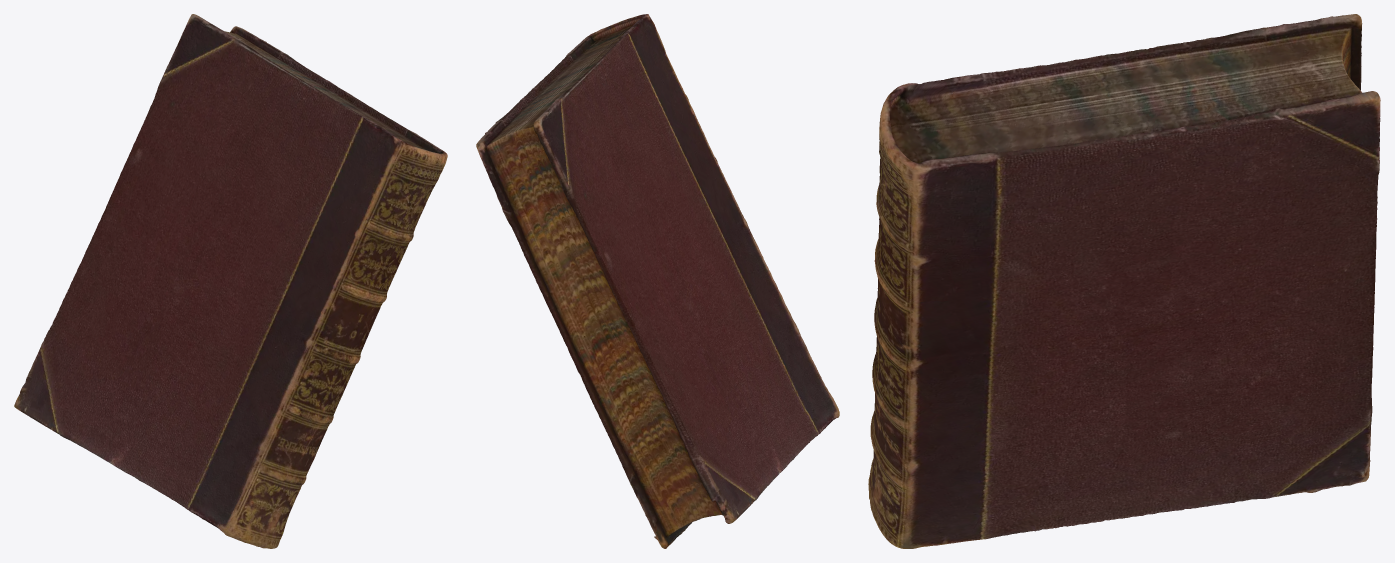
File: the_works_of_william_shakespeare-transformed.glb
3 views of the same model, side by side, from view 1: azimuth 30°, elevation 25°; view 2: azimuth 150°, elevation 25°; view 3: azimuth 270°, elevation 25° (orthographic). The views are drawn at different scales.
Visible parts, largest first — view 1: Object_2; view 2: Object_2; view 3: Object_2.
Part boxes in pixels (x1,y1,x2,y2): Object_2: (14, 14, 447, 548); Object_2: (476, 14, 839, 548); Object_2: (868, 14, 1380, 548).
Size of the model in its own units: 1.87 by 2.5 by 1.97.
1 material, 1 textured.
